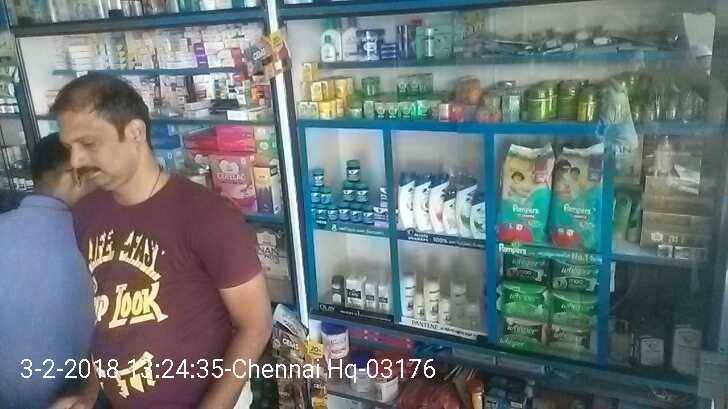vicks: (307, 157, 390, 232)
